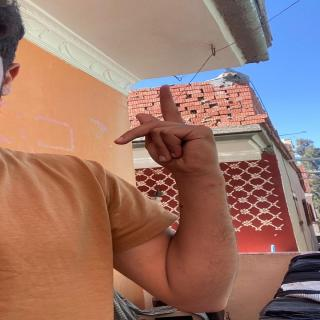DHAA: (111, 84, 234, 171)
